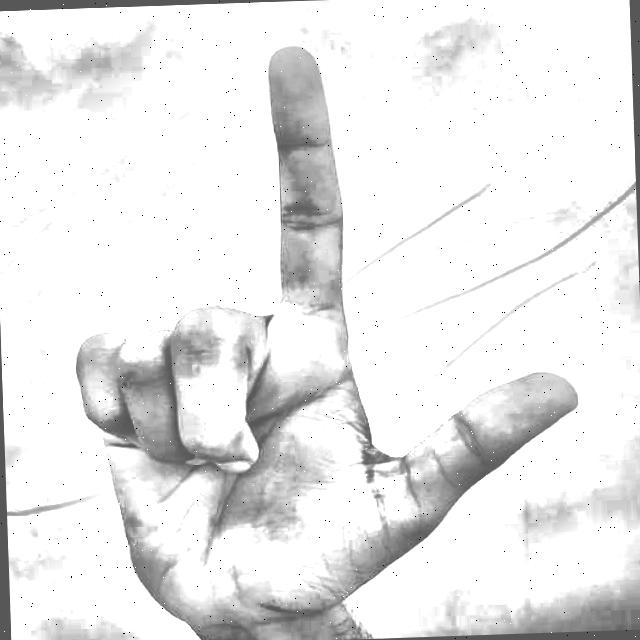La: (17, 11, 600, 639)
